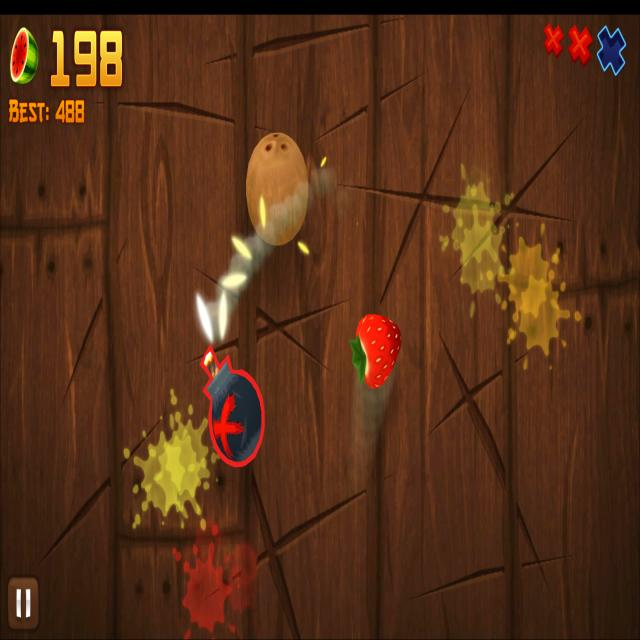bomb: (200, 344, 264, 468)
fruit: (246, 131, 309, 245), (356, 313, 402, 388)
